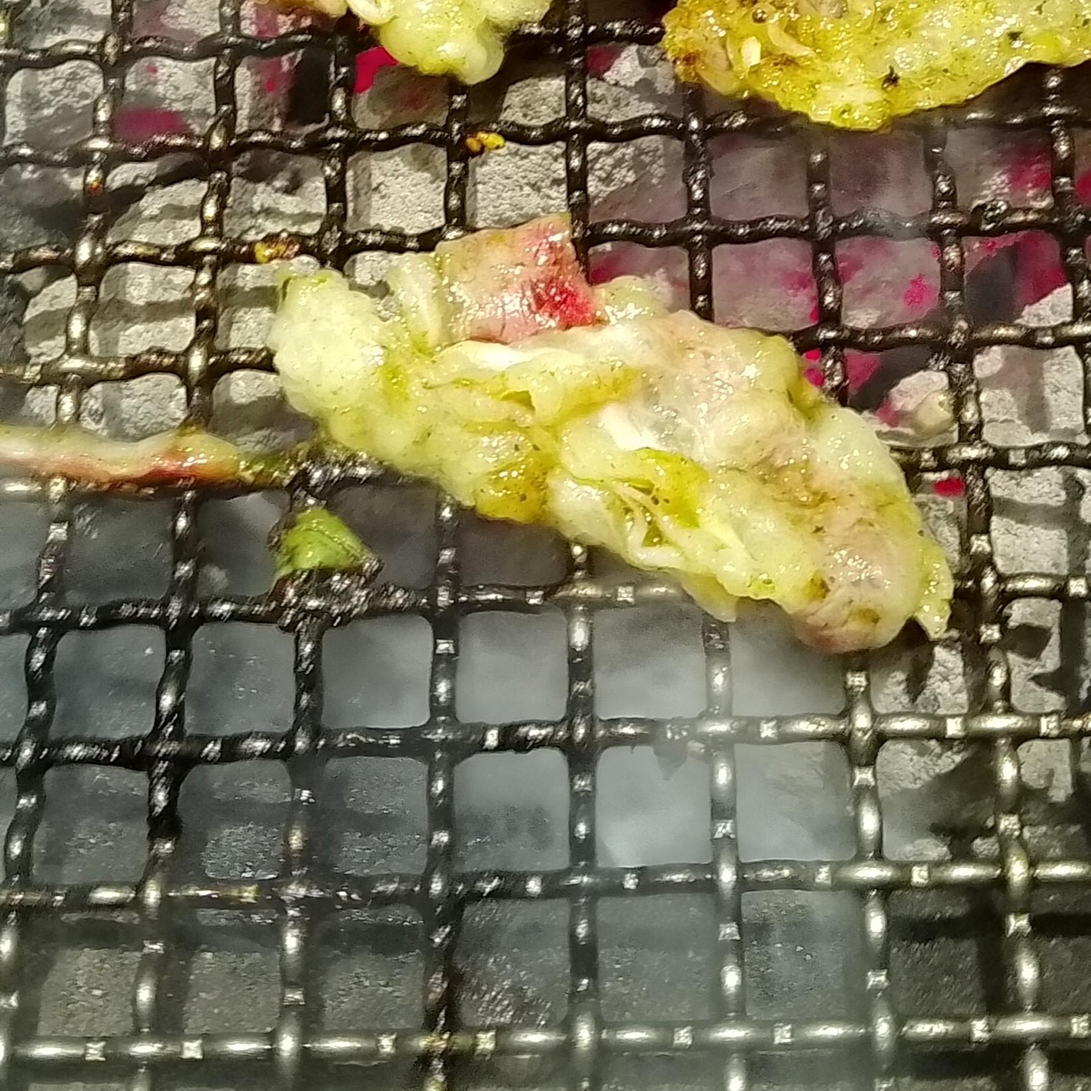Undercooked: (270, 223, 954, 660)
Well-Cooked: (658, 0, 1090, 134)
